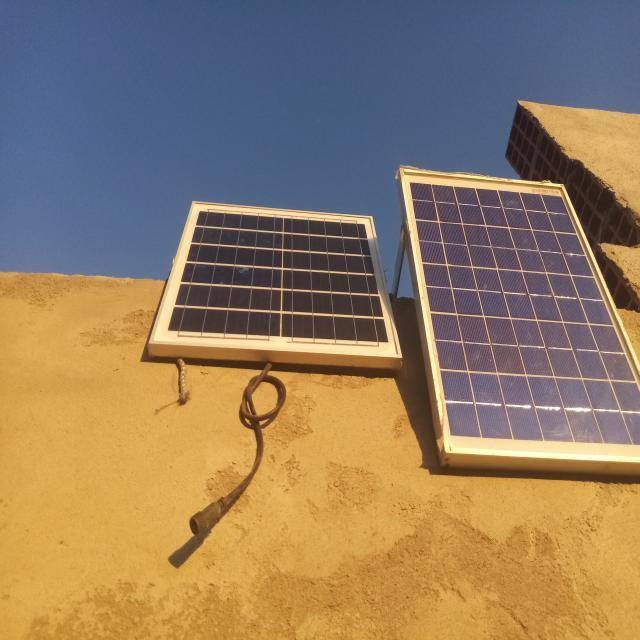no faulty: (402, 166, 640, 457), (152, 201, 394, 355)
